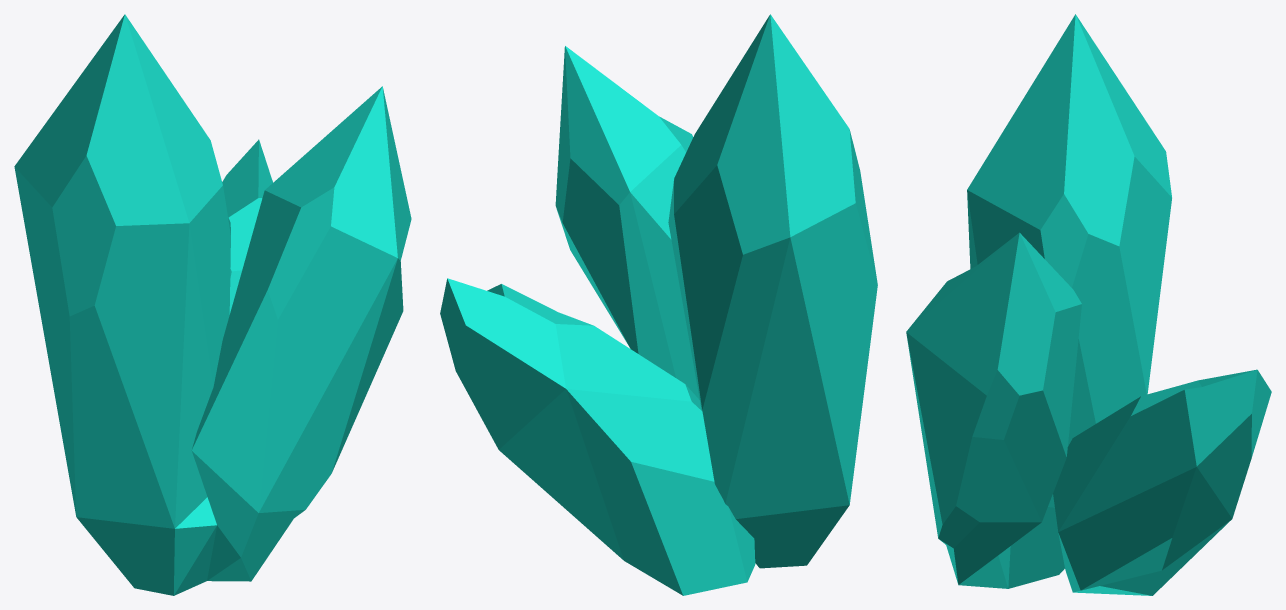
Rendered from magic crystal.fbx.
3 views of the same model, side by side, from view 1: azimuth 30°, elevation 25°; view 2: azimuth 150°, elevation 25°; view 3: azimuth 270°, elevation 25° (orthographic). The views are drawn at different scales.
Parts seen in each view (by area): view 1: Icosphere; view 2: Icosphere; view 3: Icosphere.
Part boxes in pixels (x1,y1,x2,y2): Icosphere: (14, 14, 411, 595); Icosphere: (440, 14, 877, 595); Icosphere: (906, 14, 1271, 595).
Bounding box in the file's own units: 504 × 815 × 489.
